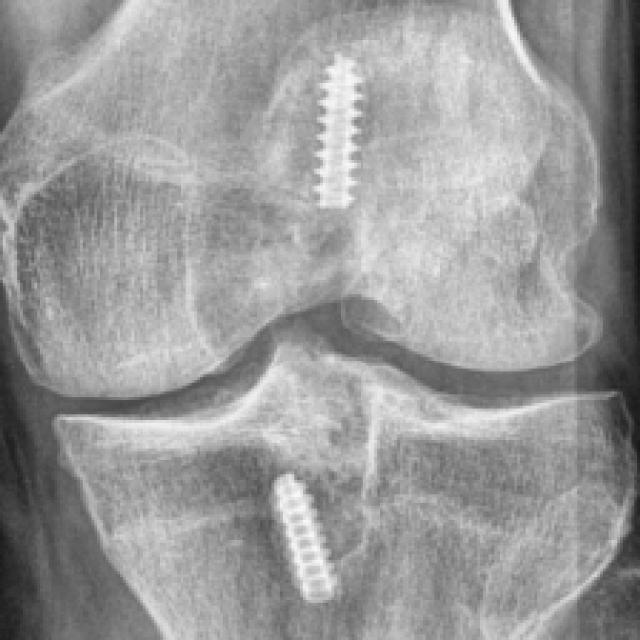femur: (0, 0, 605, 399)
tibia: (52, 339, 637, 640)
